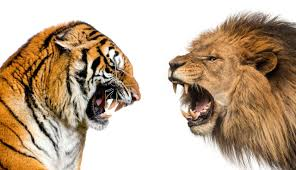lion: (163, 5, 296, 170)
tiger: (1, 16, 144, 170)
